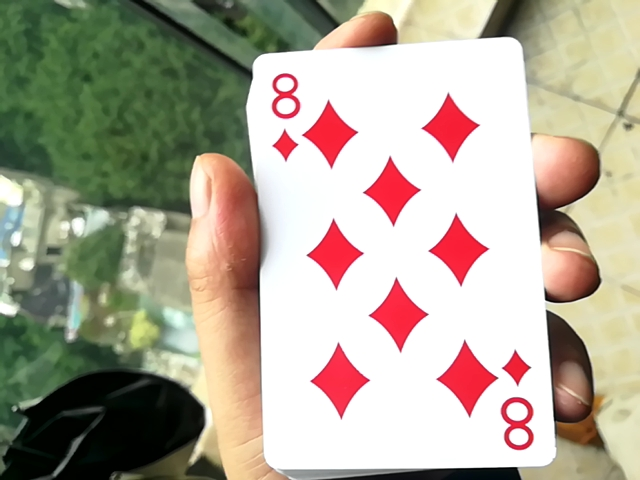fk 8: (240, 42, 552, 470)
